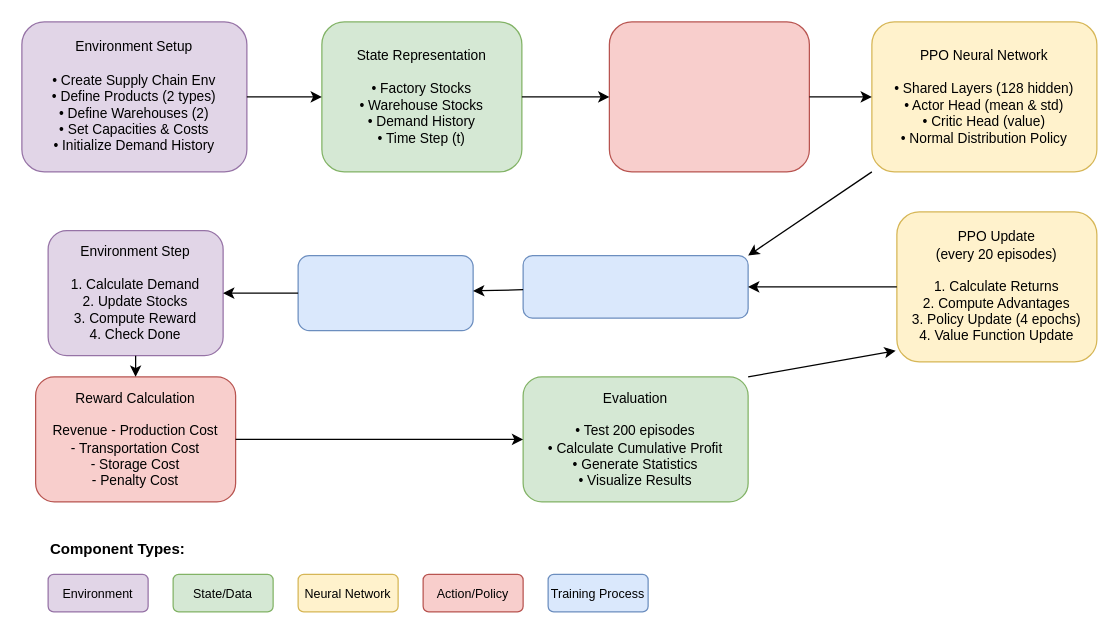
Some shapes in this 1119 by 634 pixel diagram are drawn without their labels. Here are the shapes that lost their labels. From the top down, the centre of each, then its label:
At [708,96]: "Action Space • Production Levels • Shipping Quantities • Clipped to Valid Range".
At [385,292]: "Episode Execution (25 time steps)".
At [635,286]: "Training Loop (1000 episodes)".
